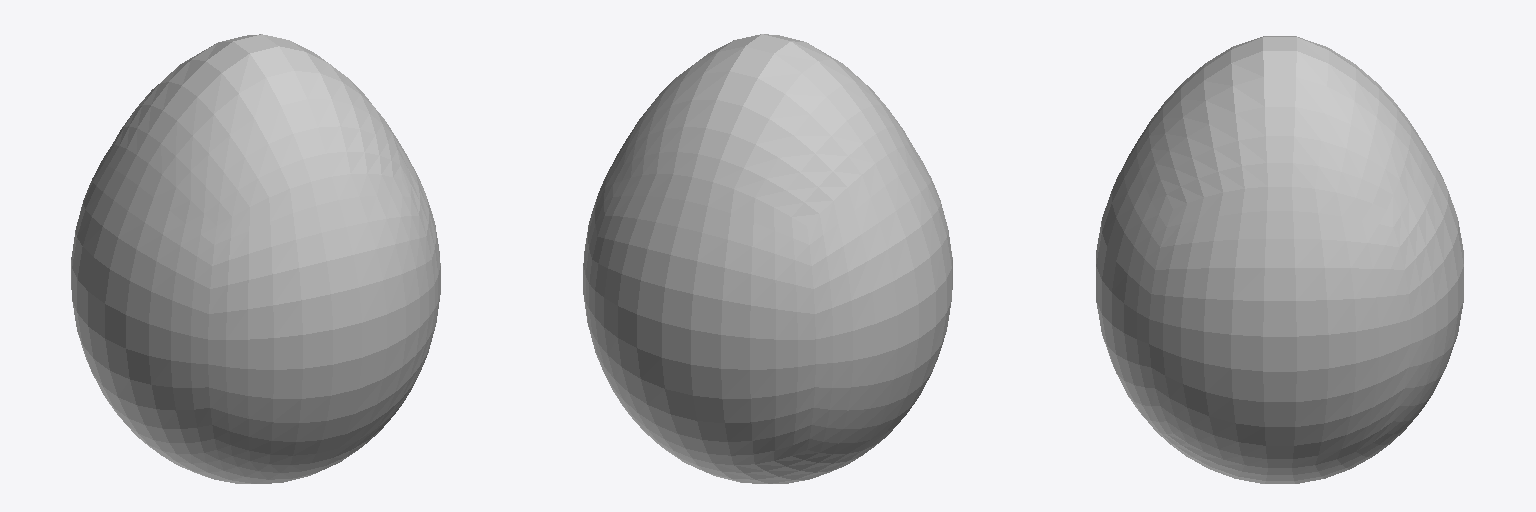
File: oeuf_quadball.obj
3 renders of one model, left to right at view 1: azimuth 30°, elevation 25°; view 2: azimuth 150°, elevation 25°; view 3: azimuth 270°, elevation 25°, orthographic.
Visible parts, largest first — view 1: Mesh; view 2: Mesh; view 3: Mesh.
Part boxes in pixels (bbox=[...]): Mesh: bbox=[71, 34, 440, 483]; Mesh: bbox=[583, 34, 952, 483]; Mesh: bbox=[1096, 36, 1463, 483].
Bounding box in the file's own units: 1.39 × 1.77 × 1.39.